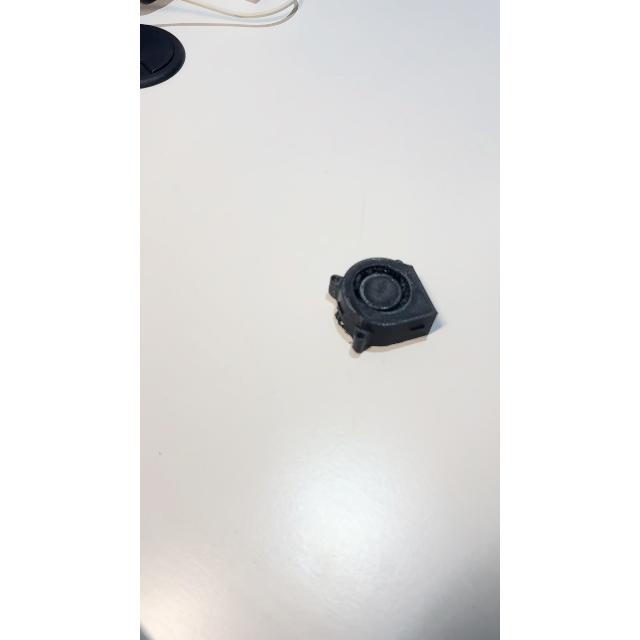Pieza_3: (322, 242, 456, 364)
